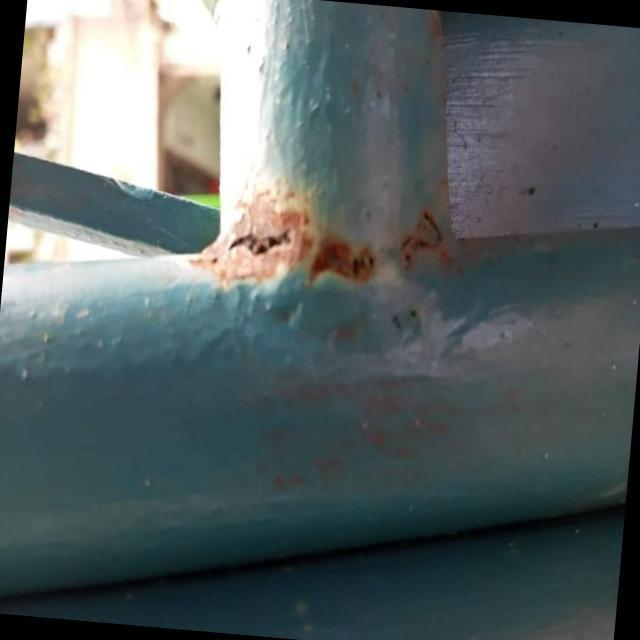defect: (225, 217, 300, 259)
